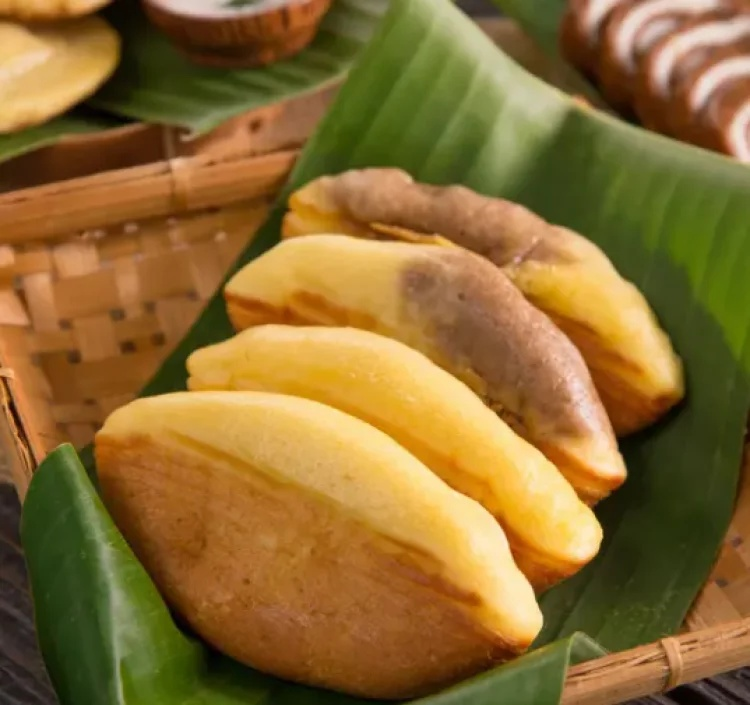pukis: (59, 372, 564, 680)
